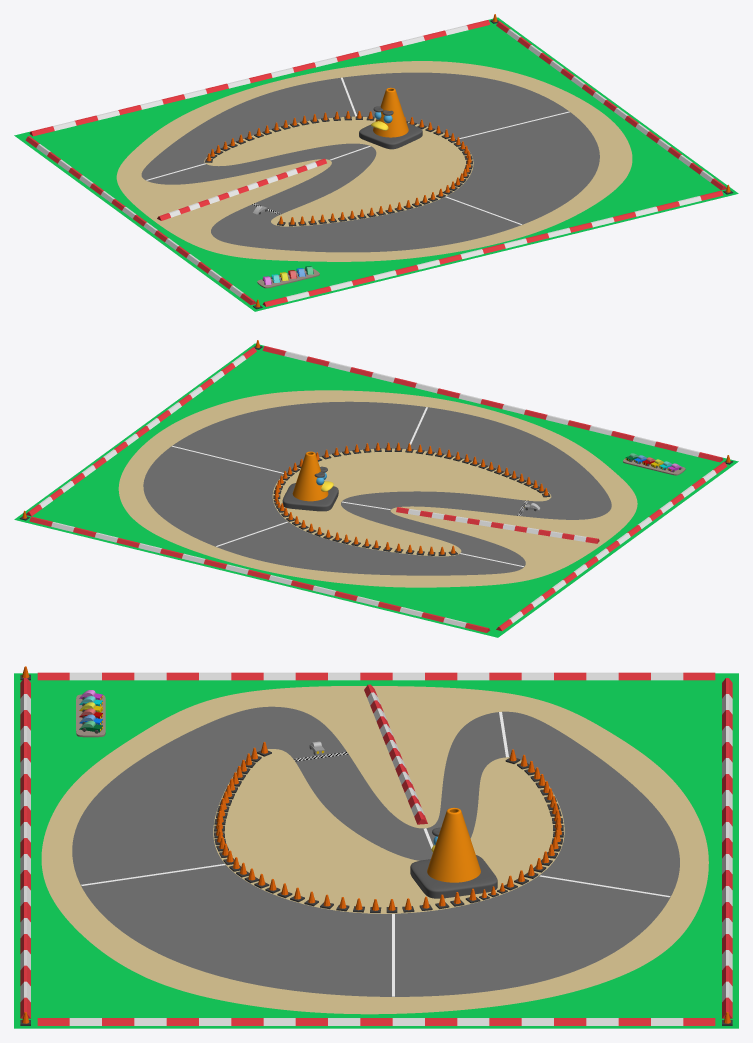
The model's file is Track008.fbx.
3 views of the same model, one above another, from view 1: azimuth 30°, elevation 25°; view 2: azimuth 150°, elevation 25°; view 3: azimuth 270°, elevation 25° (orthographic). The views are drawn at different scales.
Parts seen in each view (by area): view 1: Road, Gravel, Grass, Barrier.001, Barrier.006, Barrier.007, Barrier.008, Barrier.009, BigConeTop, BigConeBase; view 2: Road, Gravel, Grass, Barrier.001, Barrier.006, Barrier.007, Barrier.008, Barrier.009, BigConeTop, BigConeBase; view 3: Road, Gravel, Grass, Barrier.008, Barrier.007, Barrier.001, Barrier.006, BigConeTop, BigConeBase, Barrier.009.
Boxes of the visible parts, bbox=[...] form: Road: bbox=[141, 72, 599, 252]; Gravel: bbox=[116, 61, 632, 261]; Grass: bbox=[14, 17, 738, 311]; Barrier.001: bbox=[29, 20, 490, 136]; Barrier.006: bbox=[262, 190, 723, 306]; Barrier.007: bbox=[496, 21, 726, 190]; Barrier.008: bbox=[25, 136, 256, 304]; Barrier.009: bbox=[157, 158, 326, 220]; BigConeTop: bbox=[373, 87, 408, 137]; BigConeBase: bbox=[359, 123, 422, 149]; Road: bbox=[143, 401, 611, 575]; Gravel: bbox=[118, 390, 637, 587]; Grass: bbox=[14, 343, 738, 637]; Barrier.001: bbox=[29, 516, 490, 632]; Barrier.006: bbox=[262, 346, 723, 462]; Barrier.007: bbox=[26, 347, 256, 516]; Barrier.008: bbox=[496, 462, 727, 630]; Barrier.009: bbox=[396, 507, 599, 543]; BigConeTop: bbox=[292, 451, 328, 501]; BigConeBase: bbox=[282, 483, 338, 511]; Road: bbox=[72, 706, 679, 996]; Gravel: bbox=[41, 686, 708, 1014]; Grass: bbox=[14, 673, 738, 1028]; Barrier.008: bbox=[37, 672, 715, 680]; Barrier.007: bbox=[37, 1018, 715, 1025]; Barrier.001: bbox=[722, 678, 732, 1018]; Barrier.006: bbox=[20, 678, 30, 1018]; BigConeTop: bbox=[427, 807, 480, 882]; BigConeBase: bbox=[410, 855, 497, 898]; Barrier.009: bbox=[364, 684, 427, 824].
Bounding box in the file's own units: 230 × 198 × 21.03.
